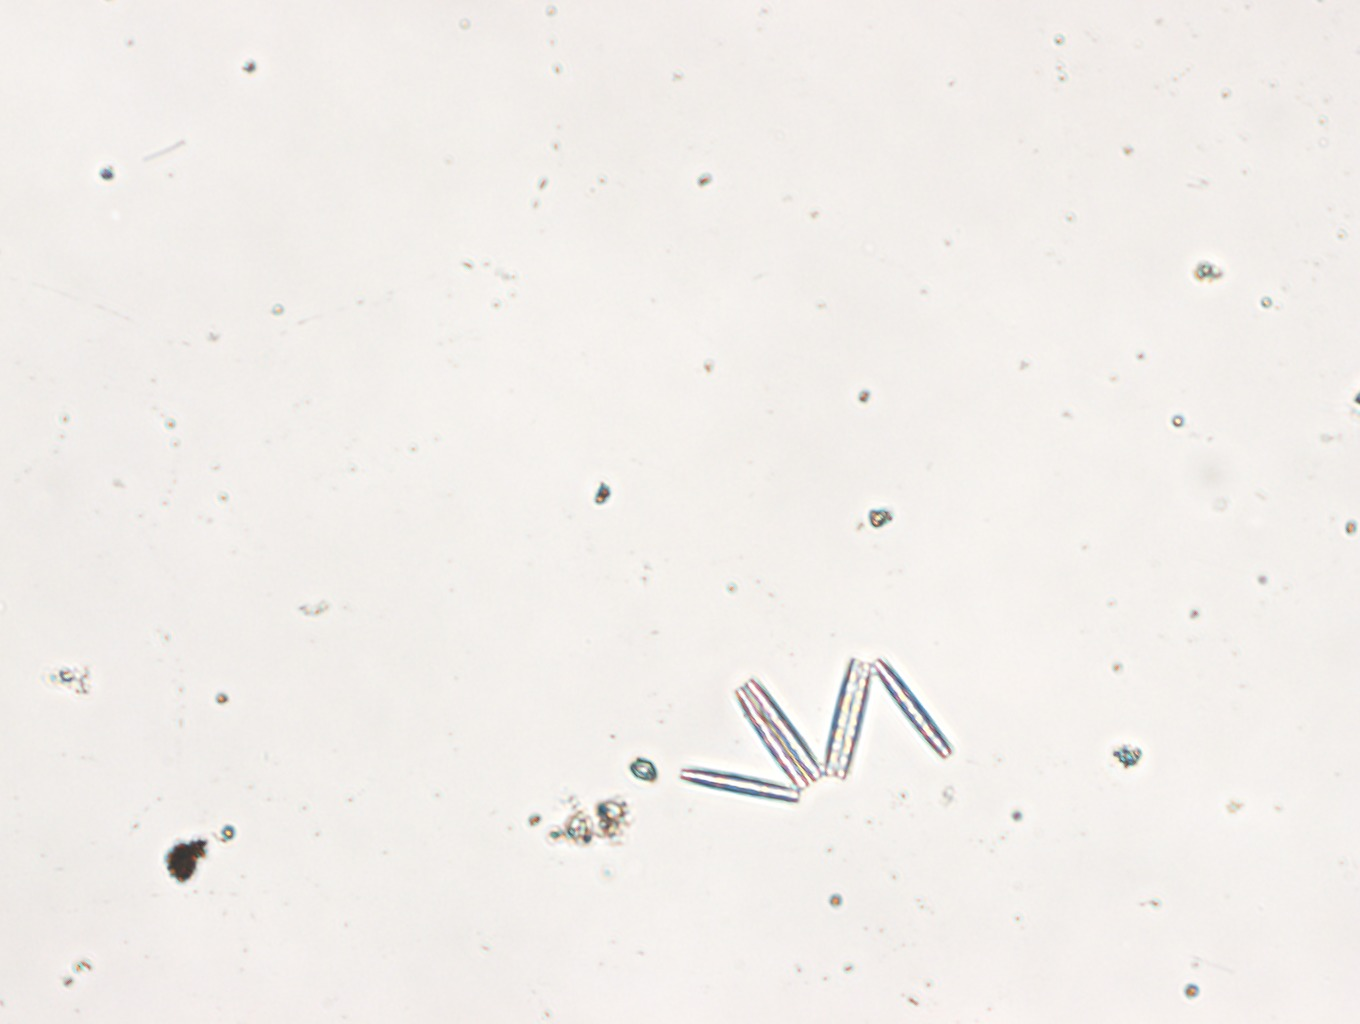thalassionema nitzschioides: (677, 657, 954, 803)
